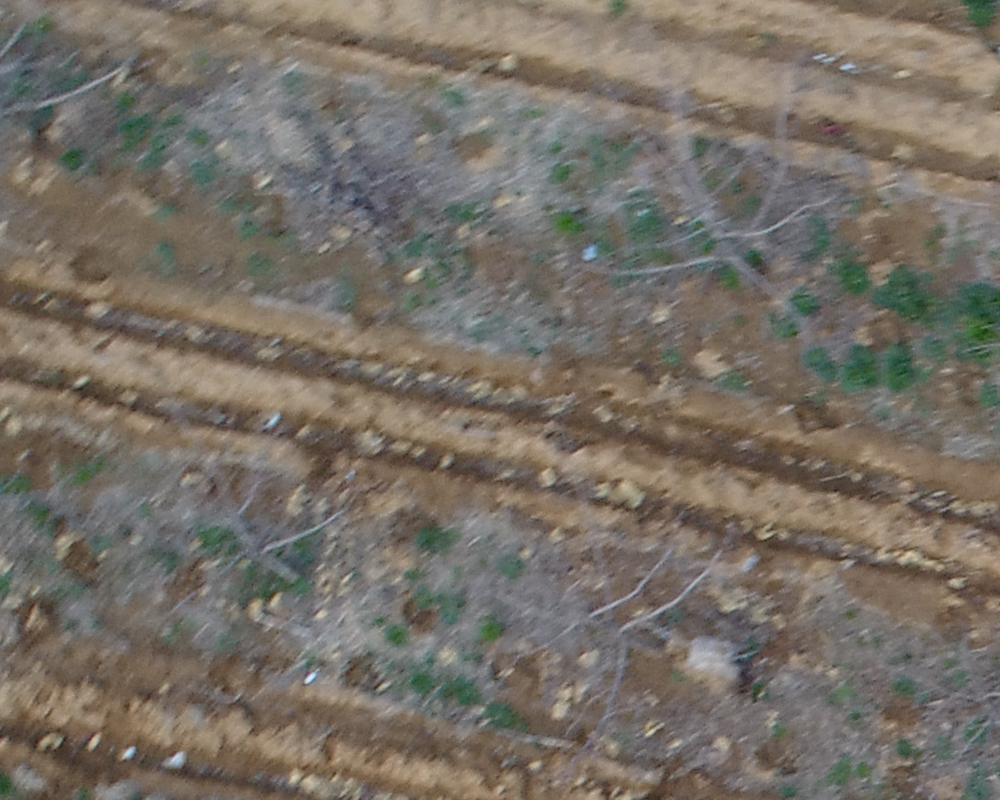apple: (590, 61, 844, 367), (482, 482, 768, 751), (154, 410, 382, 615), (10, 18, 136, 208), (899, 630, 990, 755)
